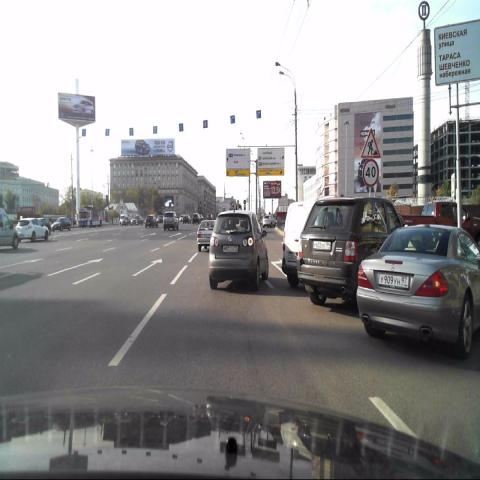1_25: (360, 127, 383, 159)
